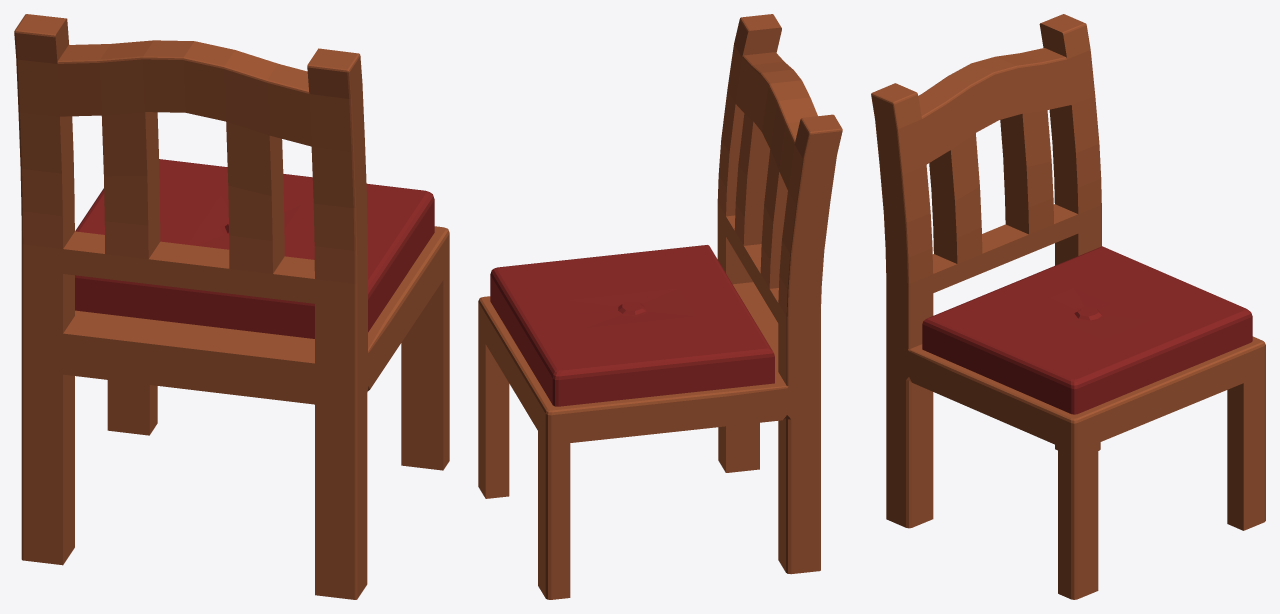
The model's file is italian_chair.fbx.
3 views of the same model, side by side, from view 1: azimuth 30°, elevation 25°; view 2: azimuth 150°, elevation 25°; view 3: azimuth 270°, elevation 25° (orthographic). The views are drawn at different scales.
Visible parts, largest first — view 1: chair.003; view 2: chair.003; view 3: chair.003.
Boxes of the visible parts, box(x1,y1,x2,y2) form: chair.003: box(14, 14, 449, 599); chair.003: box(478, 14, 842, 599); chair.003: box(871, 14, 1265, 599).
Size of the model in its own units: 40.18 by 47.09 by 40.14.
